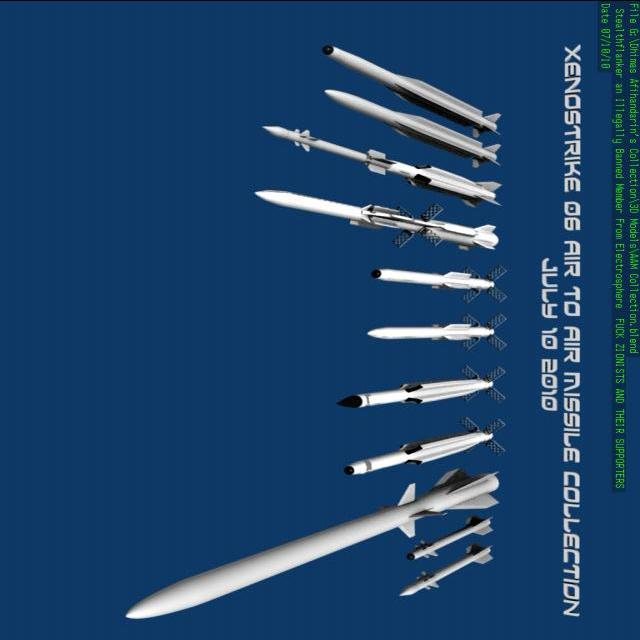missile: (332, 413, 510, 479), (330, 363, 525, 414), (357, 263, 503, 298), (360, 314, 497, 344)
